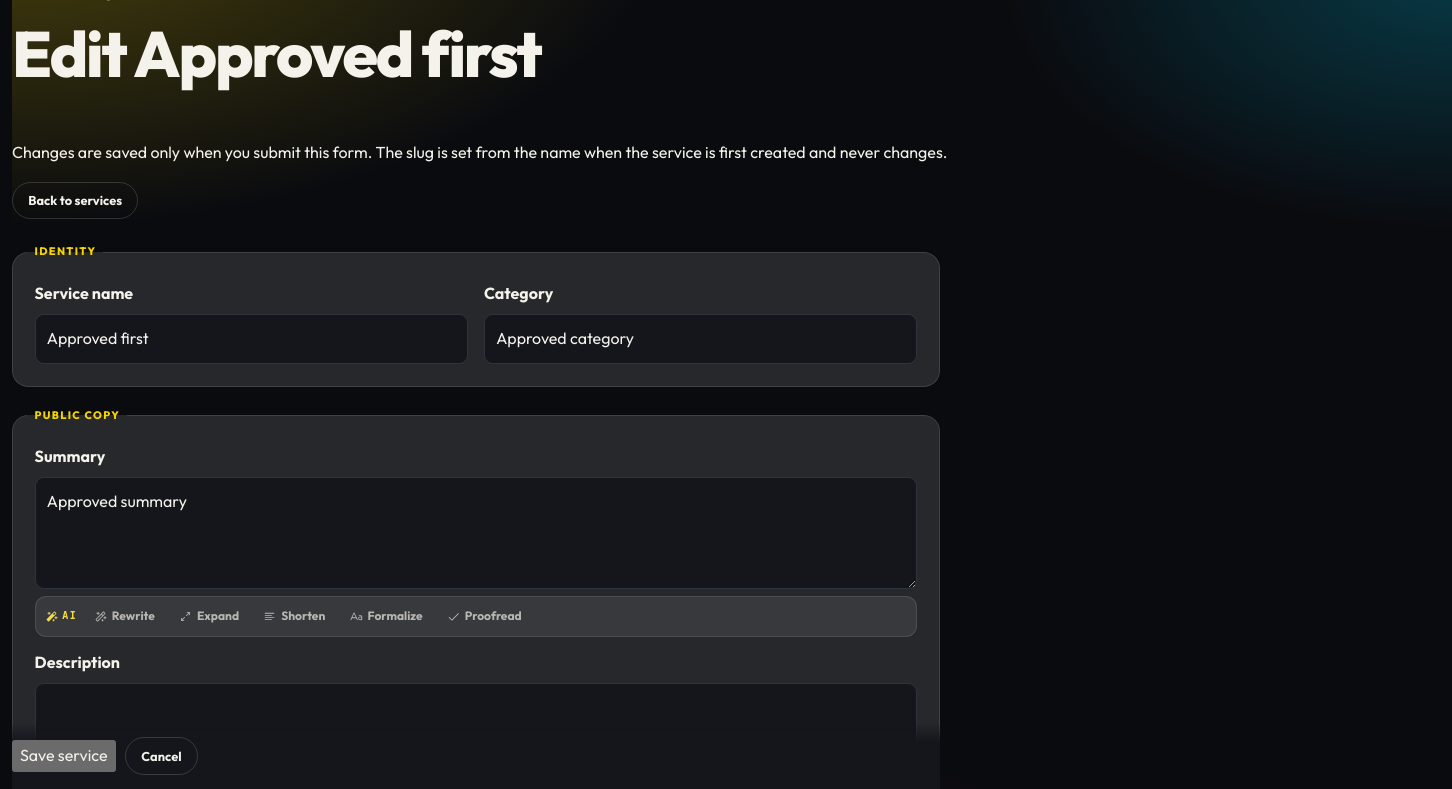
Test: rewrites service copy through the assistant without renaming the field
Click the button "Rewrite": (124, 616) [84, 601, 164, 631]
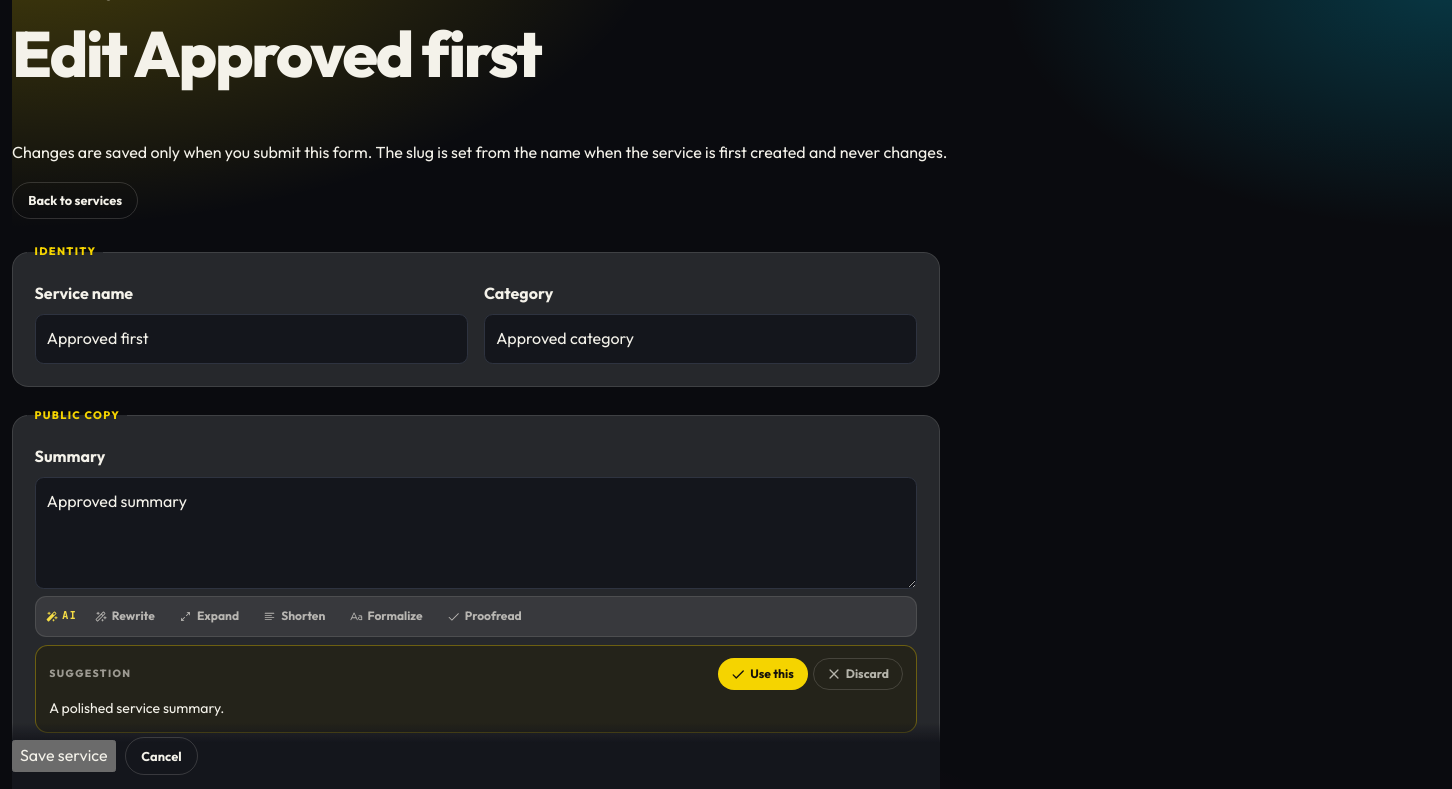
Click the button "Use this": (762, 674) [718, 658, 808, 690]
(page scrolled)
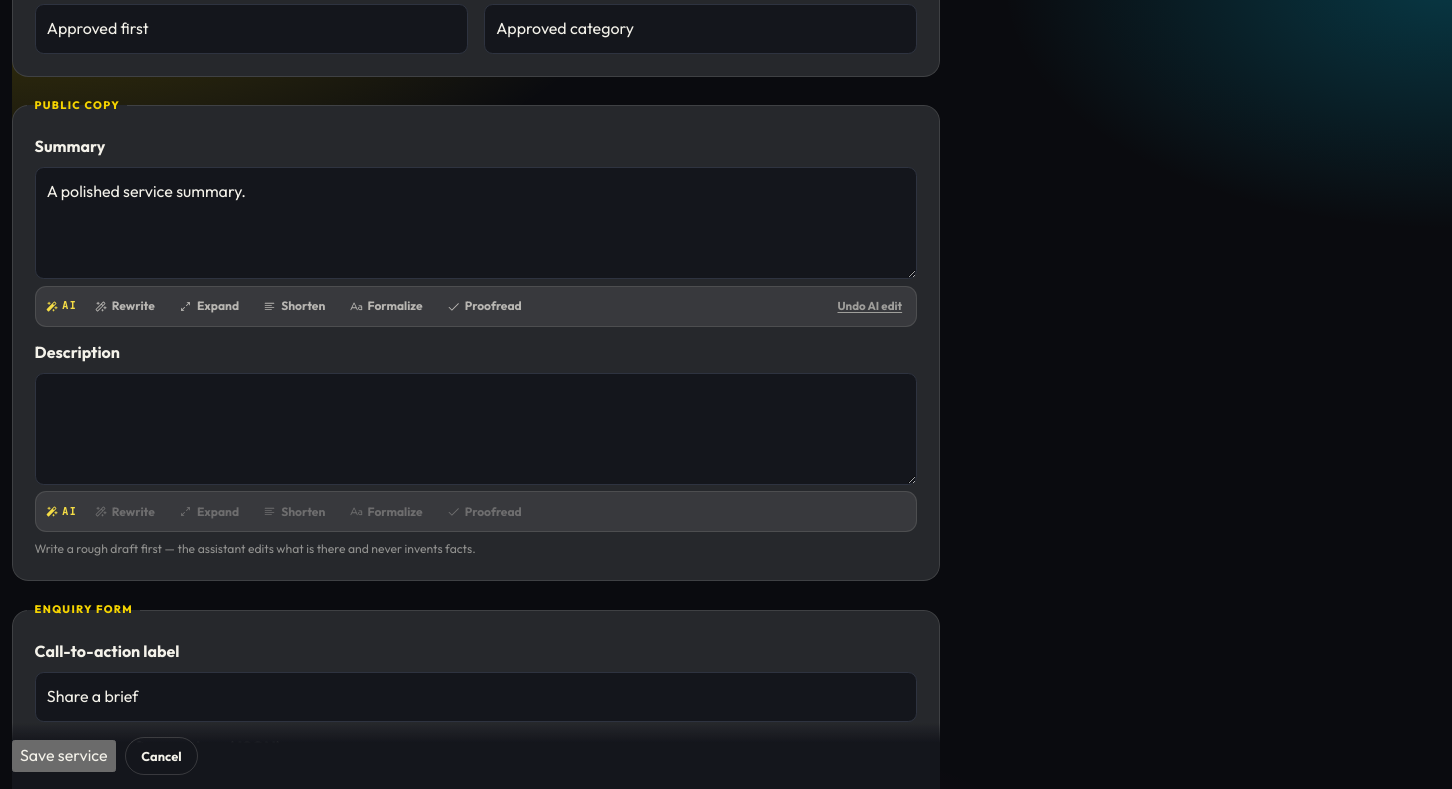
Expected: the text box labelled "Description" is shown, [35, 373, 917, 485]
Expected: the text box labelled "Summary" holds "A polished service summary.", [35, 167, 917, 279]
